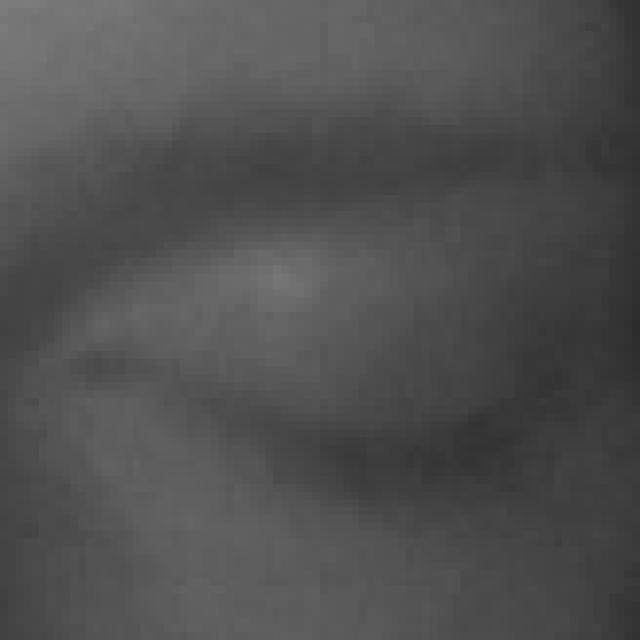Eyeclosed: (195, 234, 531, 640)
